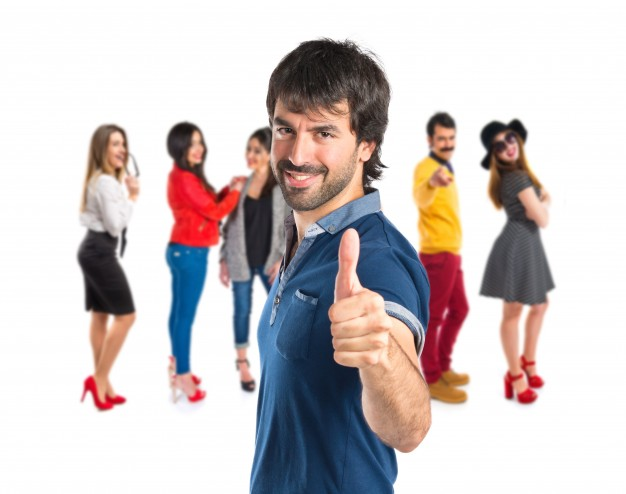thumbsup: (327, 228, 391, 366)
